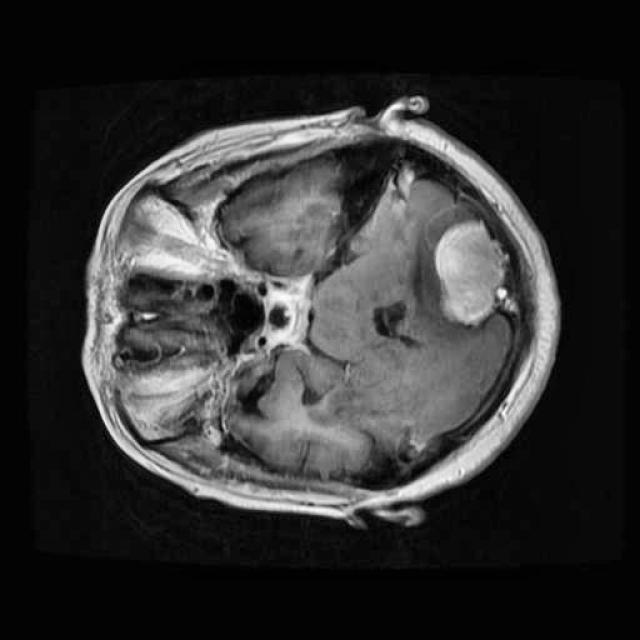Tumor: (428, 210, 522, 340)
